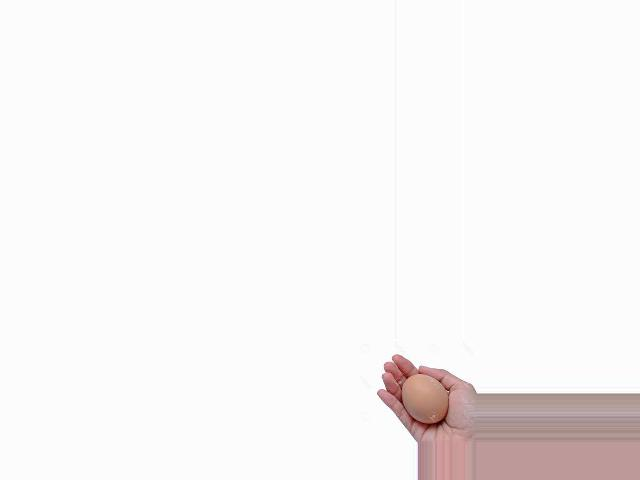egg: (401, 374, 448, 423)
